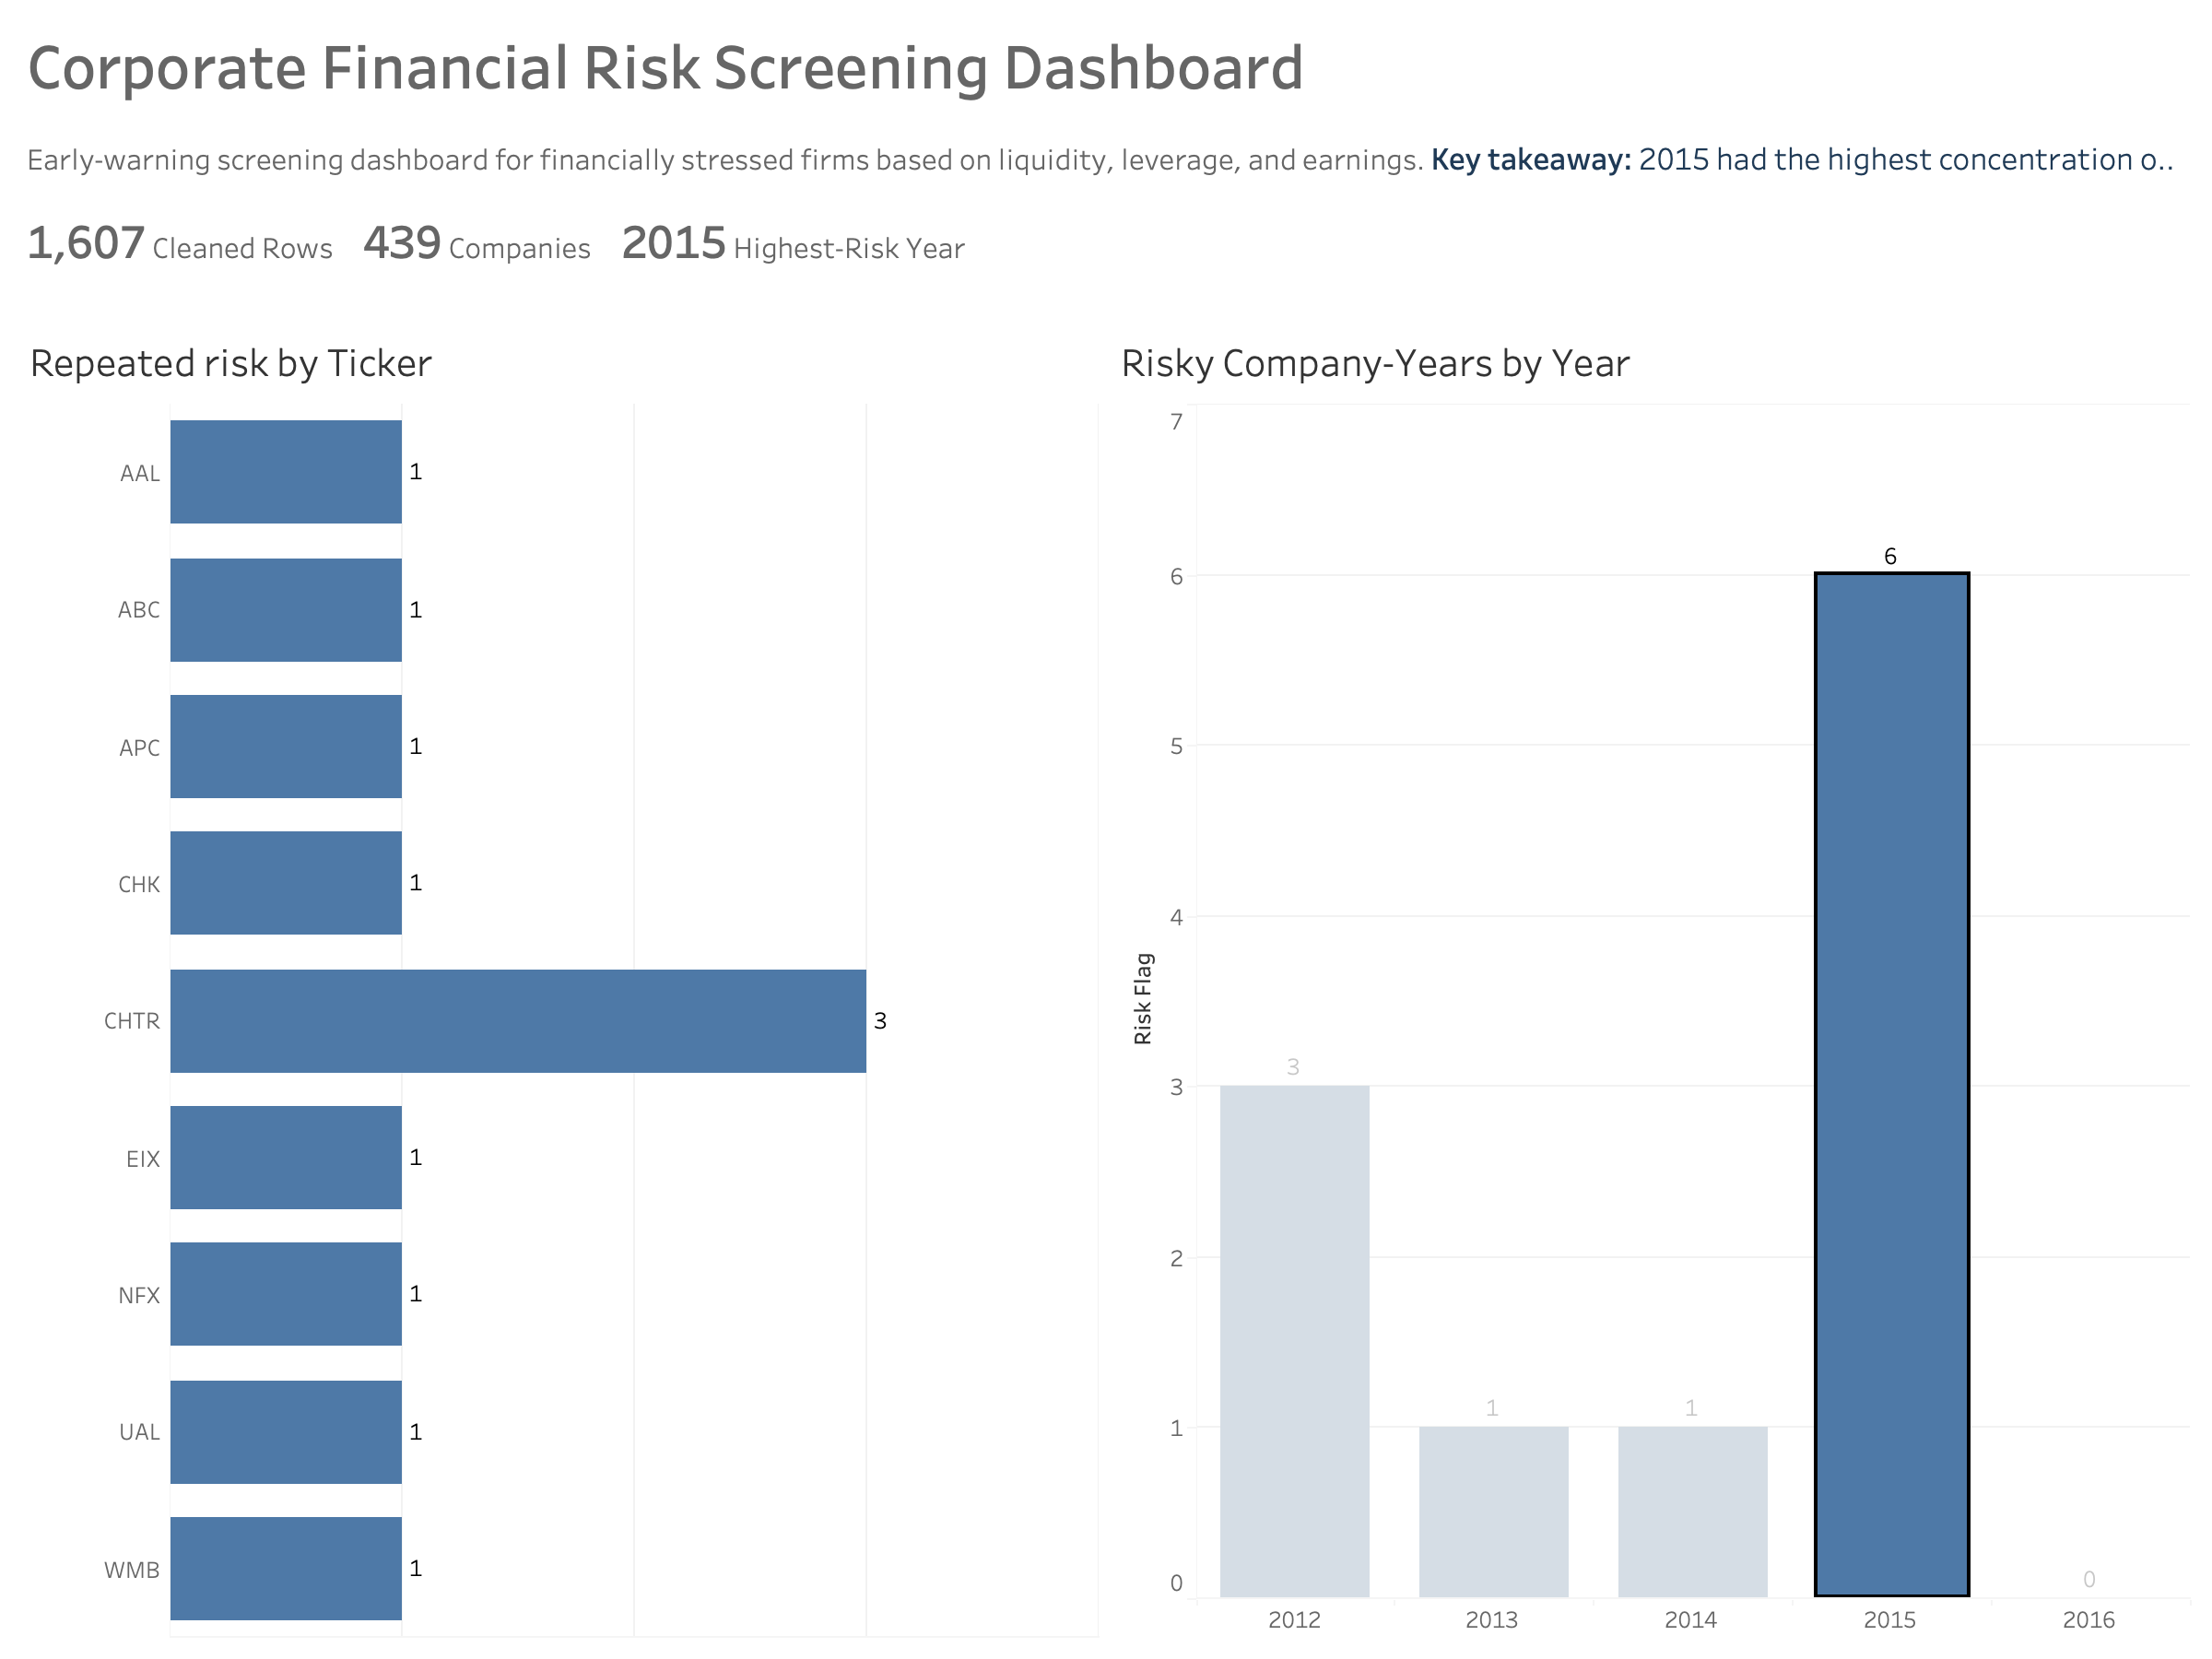

This screenshot's page, from the dashboard's own definition file:
{"tool":"tableau","page":{"name":"Corporate-Financial-Risk","canvas":[1200,900],"ordinal":0},"visuals":[{"type":"text","box":[8,8,1184,54]},{"type":"text","box":[8,62,1184,46.8]},{"type":"text","box":[8,109.7,1184,41.4]},{"type":"worksheet","title":"Repeated risk by Ticker","mark":"Automatic","rows":["Ticker Symbol"],"cols":["Calculation_6268940537802755"],"box":[8,171.8,592,720.2]},{"type":"worksheet","title":"Risky Company-Years by Year","mark":"Bar","rows":["Calculation_6268940537802755"],"cols":["Calculation_6268940537008128"],"box":[600,171.8,592,720.2]}]}

Visuals, with their boxes in screenshot pixels (x1, y1, x2, y2), scaled from the page's 1200x900 canvas onto the 2212x1659 screenshot:
text: x1=15 y1=15 x2=2197 y2=114
text: x1=15 y1=114 x2=2197 y2=201
text: x1=15 y1=202 x2=2197 y2=278
"Repeated risk by Ticker" worksheet: x1=15 y1=317 x2=1106 y2=1644
"Risky Company-Years by Year" worksheet (Bar marks): x1=1106 y1=317 x2=2197 y2=1644
